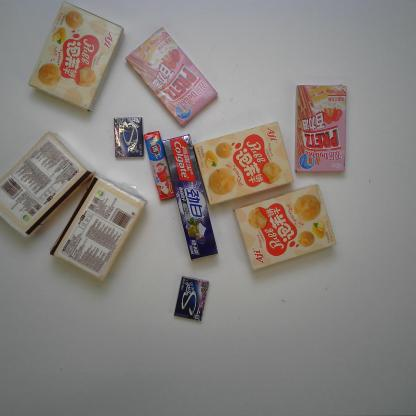Candy: (142, 128, 176, 201)
Dessert: (26, 1, 124, 114), (124, 26, 219, 128), (190, 120, 294, 207), (235, 185, 337, 271), (294, 84, 348, 174)
Gum: (171, 276, 210, 319), (110, 114, 144, 161)
Personal Hygiene: (163, 132, 220, 260)
Tissue: (49, 171, 148, 285), (0, 131, 94, 239)
